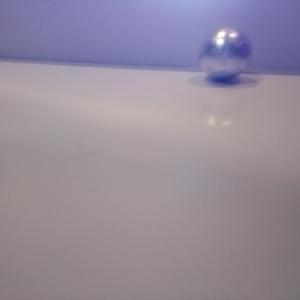alive_ball: (200, 28, 250, 82)
